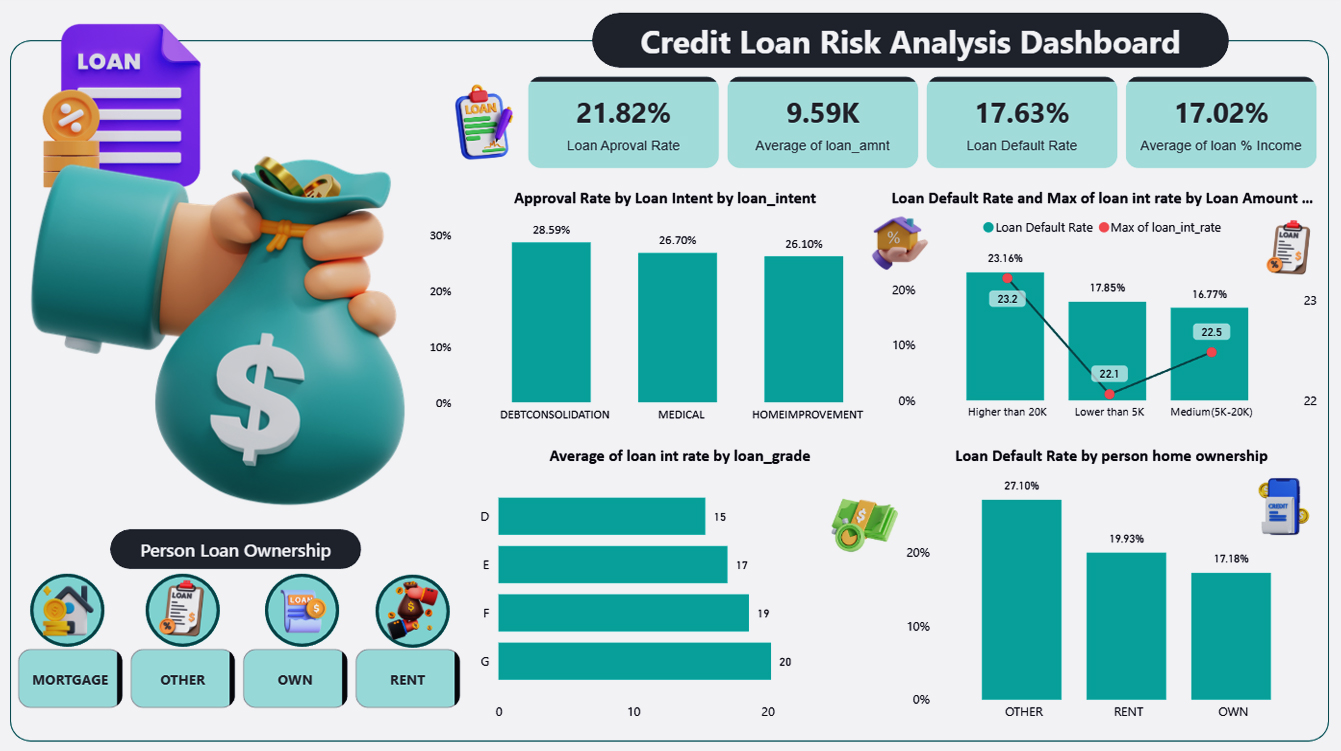

This screenshot's page, from the dashboard's own definition file:
{"tool":"powerbi","page":{"name":"Page 1","canvas":[1300,740],"ordinal":0},"visuals":[{"type":"shape","box":[364.4,565.7,71.8,71.8],"z":0},{"type":"shape","box":[257.2,564.8,71.8,71.8],"z":1000},{"type":"shape","box":[29.8,564.8,71.8,71.8],"z":2000},{"type":"shape","box":[141.7,564.8,71.8,71.8],"z":3000},{"type":"shape","box":[10.3,40.1,1277.8,689.7],"z":4000},{"type":"image","box":[30.8,0,179.9,206.9],"z":5000},{"type":"shape","box":[574.1,13,617,54.1],"z":6000},{"type":"cardVisual","fields":{"Data":["credit_risk_dataset.Loan Aproval Rate","Avg(credit_risk_dataset.loan_amnt)","credit_risk_dataset.Loan Default Rate","Avg(credit_risk_dataset.loan_percent_income)"]},"box":[507,70.8,774.5,100.7],"z":7000},{"type":"columnChart","fields":{"Category":["credit_risk_dataset.loan_intent"],"Y":["credit_risk_dataset.Approval Rate by Loan Intent"]},"box":[403.6,185.5,469.7,238.6],"z":8000},{"type":"barChart","title":"Average of loan int rate by loan_grade","fields":{"Category":["credit_risk_dataset.loan_grade"],"Y":["Avg(credit_risk_dataset.loan_int_rate)"]},"box":[459.5,439,399.8,279.6],"z":9000},{"type":"lineClusteredColumnComboChart","title":"Loan Default Rate by person home ownership","fields":{"Category":["credit_risk_dataset.person_home_ownership"],"Y":["credit_risk_dataset.Loan Default Rate"]},"box":[873.3,439,408.2,279.6],"z":10000},{"type":"lineClusteredColumnComboChart","title":"Loan Default Rate and Max of loan int rate by Loan Amount Group","fields":{"Category":["credit_risk_dataset.Loan Amount Group"],"Y":["credit_risk_dataset.Loan Default Rate"],"Y2":["Max(credit_risk_dataset.loan_int_rate)"]},"box":[859.3,185.5,422.2,237.7],"z":11000},{"type":"advancedSlicerVisual","fields":{"Values":["credit_risk_dataset.person_home_ownership"]},"box":[13,633.8,439,69],"z":12000},{"type":"image","box":[423.1,76.4,91.3,88.5],"z":13000},{"type":"image","box":[366.3,562.9,68,76.4],"z":14000},{"type":"image","box":[794.1,475.3,88.5,79.2],"z":15000},{"type":"image","box":[838.8,206.9,68,65.2],"z":16000},{"type":"image","box":[28,570.4,76.4,60.6],"z":17000},{"type":"image","box":[136.1,563.9,78.3,69.9],"z":18000},{"type":"image","box":[253.5,563.9,82,74.6],"z":19000},{"type":"image","box":[1206,462.3,75.5,71.8],"z":20000},{"type":"shape","box":[107.2,521,243.2,39.1],"z":21000},{"type":"image","box":[1213.5,206.9,68,73.6],"z":22000},{"type":"image","box":[0,24.2,434.3,583.4],"z":23000}]}

Visuals, with their boxes in screenshot pixels (x1, y1, x2, y2), scaled from the page's 1300x740 canvas onto the 1341x751 screenshot:
shape: detection(376, 574, 450, 647)
shape: detection(265, 573, 339, 646)
shape: detection(31, 573, 105, 646)
shape: detection(146, 573, 220, 646)
shape: detection(11, 41, 1329, 741)
image: detection(32, 0, 217, 210)
shape: detection(592, 13, 1229, 68)
cardVisual - credit_risk_dataset.Loan Aproval Rate x Avg(credit_risk_dataset.loan_amnt): detection(523, 72, 1322, 174)
columnChart - credit_risk_dataset.loan_intent x credit_risk_dataset.Approval Rate by Loan Intent: detection(416, 188, 901, 430)
"Average of loan int rate by loan_grade" barChart: detection(474, 446, 886, 729)
"Loan Default Rate by person home ownership" lineClusteredColumnComboChart: detection(901, 446, 1322, 729)
"Loan Default Rate and Max of loan int rate by Loan Amount Group" lineClusteredColumnComboChart: detection(886, 188, 1322, 429)
advancedSlicerVisual - credit_risk_dataset.person_home_ownership: detection(13, 643, 466, 713)
image: detection(436, 78, 531, 167)
image: detection(378, 571, 448, 649)
image: detection(819, 482, 910, 563)
image: detection(865, 210, 935, 276)
image: detection(29, 579, 108, 640)
image: detection(140, 572, 221, 643)
image: detection(261, 572, 346, 648)
image: detection(1244, 469, 1322, 542)
shape: detection(111, 529, 361, 568)
image: detection(1252, 210, 1322, 285)
image: detection(0, 25, 448, 617)
